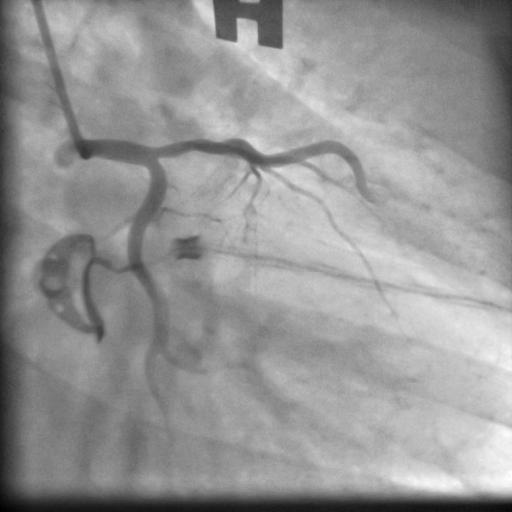Stenosis: (165, 134, 213, 155)
